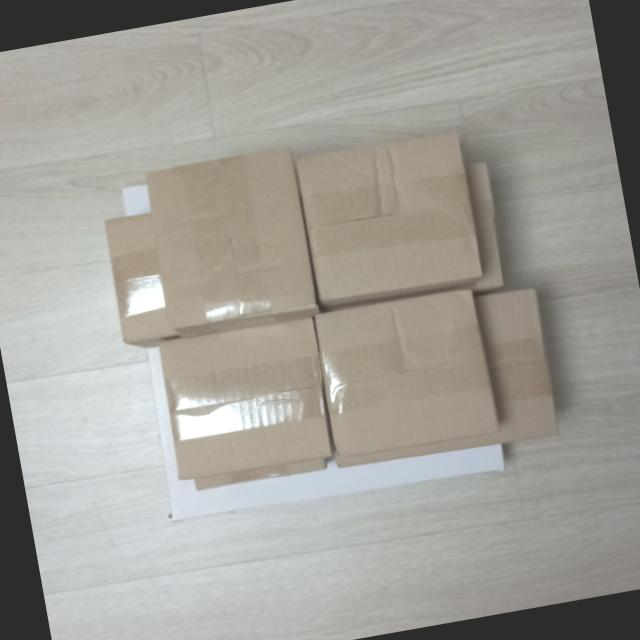box: (136, 141, 324, 343), (289, 126, 489, 314), (310, 282, 504, 464), (149, 312, 338, 489)
